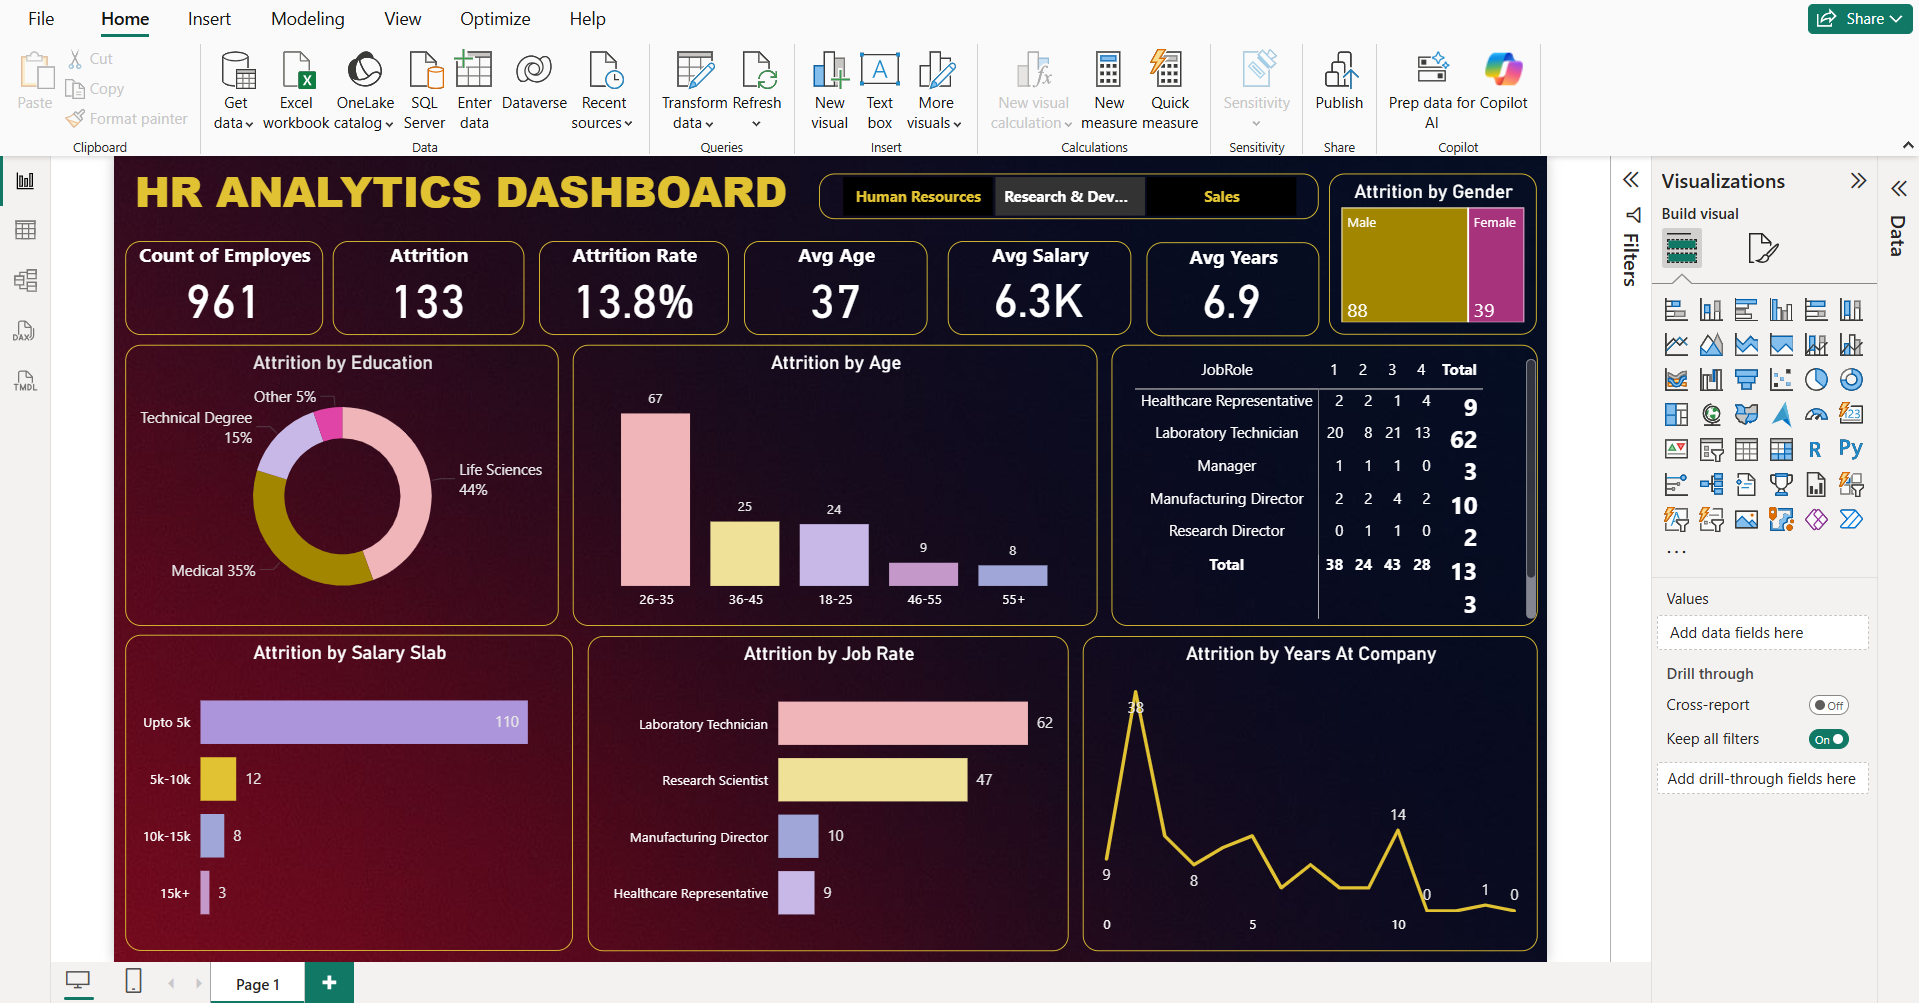

The dashboard page shown, as its layout file describes it:
{"tool":"powerbi","page":{"name":"Page 1","canvas":[1280,720],"ordinal":0},"visuals":[{"type":"cardVisual","title":"Count of Employes","fields":{"Data":["CountNonNull(HR_Analytics.EmpID)"]},"box":[10,75.9,176.4,83.7],"z":0},{"type":"cardVisual","title":"Attrition","fields":{"Data":["Sum(HR_Analytics.AttritionCount)"]},"box":[195.4,75.9,170.8,83.7],"z":1000},{"type":"cardVisual","title":"Attrition Rate","fields":{"Data":["HR_Analytics.AttritionRate"]},"box":[379.7,75.9,169.7,83.7],"z":2000},{"type":"cardVisual","title":"Avg Age","fields":{"Data":["Avg(HR_Analytics.Age)"]},"box":[562.8,75.9,164.1,83.7],"z":3000},{"type":"cardVisual","title":"Avg Salary","fields":{"Data":["Avg(HR_Analytics.MonthlyIncome)"]},"box":[744.8,75.9,164.1,83.7],"z":4000},{"type":"cardVisual","title":"Avg Years","fields":{"Data":["Avg(HR_Analytics.YearsAtCompany)"]},"box":[922.3,77,154.1,83.7],"z":5000},{"type":"donutChart","title":"Attrition by Education","fields":{"Category":["HR_Analytics.EducationField"],"Y":["Sum(HR_Analytics.AttritionCount)"]},"box":[10,168.6,387.5,251.2],"z":6000},{"type":"columnChart","title":"Attrition by Age","fields":{"Category":["HR_Analytics.AgeGroup"],"Y":["Sum(HR_Analytics.AttritionCount)"]},"box":[409.8,168.6,469,251.2],"z":7000},{"type":"pivotTable","fields":{"Rows":["HR_Analytics.JobRole"],"Columns":["HR_Analytics.JobSatisfaction"],"Values":["Sum(HR_Analytics.AttritionCount)"]},"box":[891.1,168.6,380.8,251.2],"z":8000},{"type":"barChart","title":"Attrition by Salary Slab","fields":{"Category":["HR_Analytics.SalarySlab"],"Y":["Sum(HR_Analytics.AttritionCount)"]},"box":[10,427.7,399.8,282.5],"z":9000},{"type":"barChart","title":"Attrition by Job Rate","fields":{"Category":["HR_Analytics.JobRole"],"Y":["Sum(HR_Analytics.AttritionCount)"]},"box":[423.2,428.8,429.9,281.4],"z":10000},{"type":"lineChart","title":"Attrition by Years At Company","fields":{"Category":["HR_Analytics.YearsAtCompany"],"Y":["Sum(HR_Analytics.AttritionCount)"]},"box":[865.4,428.8,406.5,281.4],"z":11000},{"type":"treemap","title":"Attrition by Gender","fields":{"Group":["HR_Analytics.Gender"],"Values":["Sum(HR_Analytics.AttritionCount)"]},"box":[1085.4,15.6,185.4,144],"z":12000},{"type":"slicer","fields":{"Values":["HR_Analytics.Department"]},"box":[630.2,15.1,446.5,40.7],"z":12001},{"type":"textbox","box":[0,0,619.8,66.3],"z":12002}]}

Visuals, with their boxes on the page's 1280x720 design canvas (x1, y1, x2, y2). These are canvas units, not pixel positions in the 1919x1003 screenshot, which may show the page scaled, cropped or inside an application window:
"Count of Employes" cardVisual: [10, 76, 186, 160]
"Attrition" cardVisual: [195, 76, 366, 160]
"Attrition Rate" cardVisual: [380, 76, 549, 160]
"Avg Age" cardVisual: [563, 76, 727, 160]
"Avg Salary" cardVisual: [745, 76, 909, 160]
"Avg Years" cardVisual: [922, 77, 1076, 161]
"Attrition by Education" donutChart: [10, 169, 398, 420]
"Attrition by Age" columnChart: [410, 169, 879, 420]
pivotTable - HR_Analytics.JobRole x HR_Analytics.JobSatisfaction: [891, 169, 1272, 420]
"Attrition by Salary Slab" barChart: [10, 428, 410, 710]
"Attrition by Job Rate" barChart: [423, 429, 853, 710]
"Attrition by Years At Company" lineChart: [865, 429, 1272, 710]
"Attrition by Gender" treemap: [1085, 16, 1271, 160]
slicer - HR_Analytics.Department: [630, 15, 1077, 56]
textbox: [0, 0, 620, 66]
